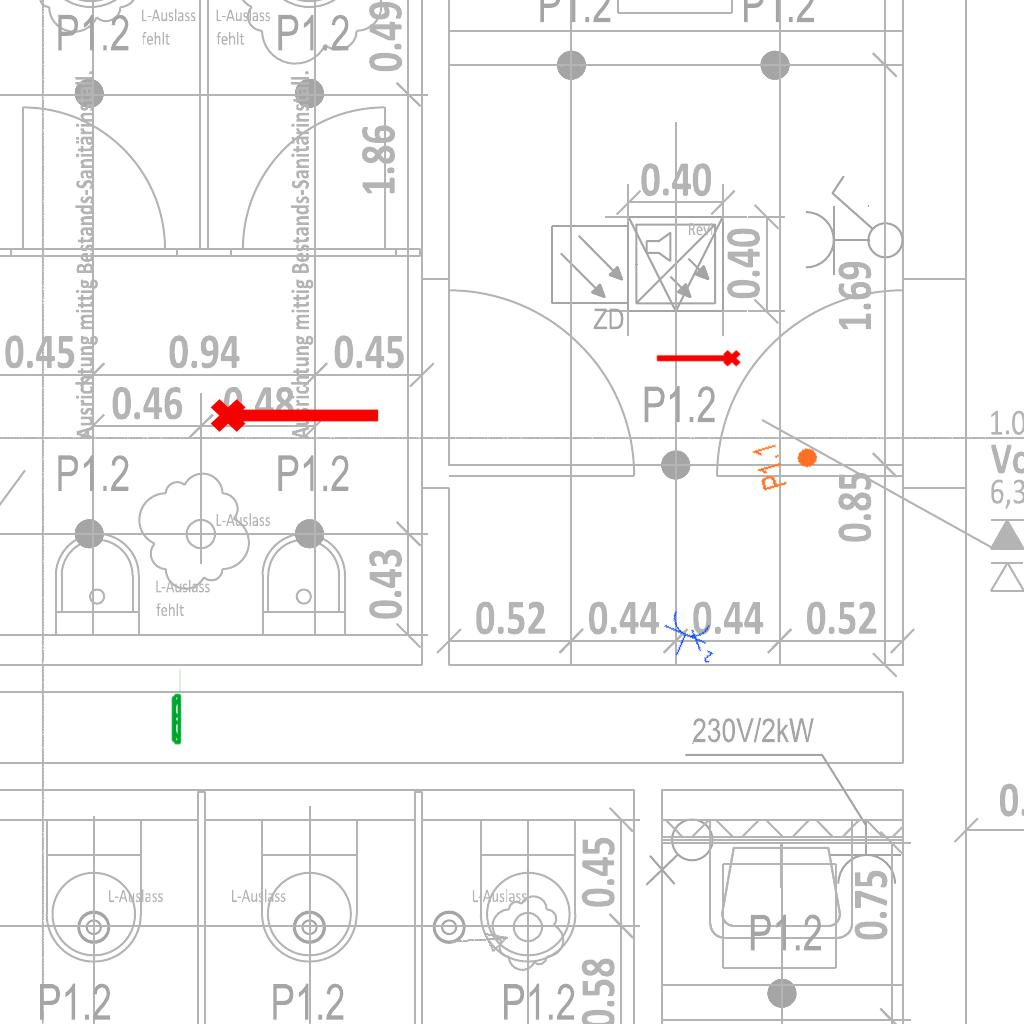ASR_Ansaugoeffnung: (208, 390, 384, 436), (654, 348, 742, 371)
Downlight_LED_Einbauleuchten_Flur_2: (749, 431, 825, 493)
Schukosteckdose_mehrfach: (654, 606, 728, 670)
Sicherheitsleuchte_Wandeinbau: (170, 667, 182, 746)
